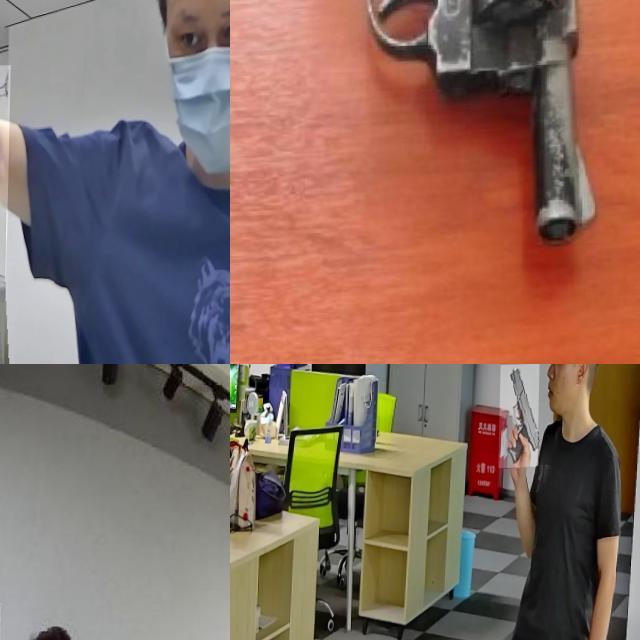-: (230, 0, 284, 364)
gun-knife-thesis - v11 Yolov5 augmented: (0, 67, 47, 364), (500, 367, 540, 471)
